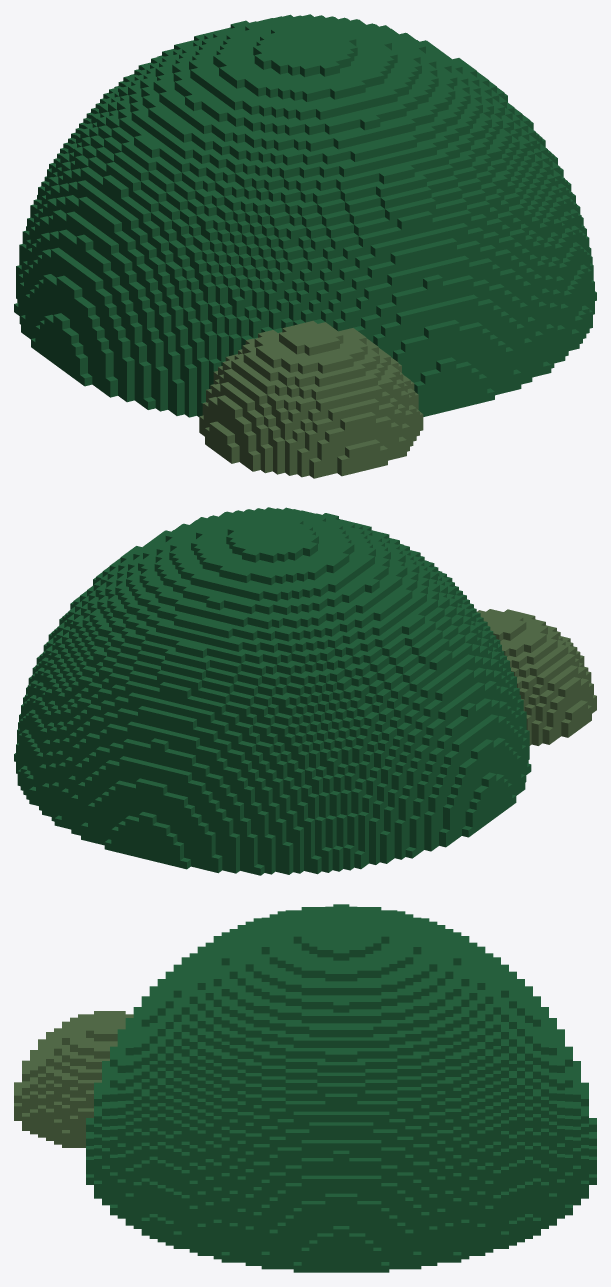
File: temple-bush-A.glb
3 renders of one model, top to bottom at view 1: azimuth 30°, elevation 25°; view 2: azimuth 150°, elevation 25°; view 3: azimuth 270°, elevation 25°, orthographic. The views are drawn at different scales.
Visible parts, largest first — view 1: Polygon; view 2: Polygon; view 3: Polygon.
Part boxes in pixels (bbox=[...]): Polygon: bbox=[14, 14, 596, 478]; Polygon: bbox=[14, 507, 596, 875]; Polygon: bbox=[14, 904, 596, 1272].
Size of the model in its own units: 6.4 by 3.2 by 7.3.
1 material, 1 textured.
